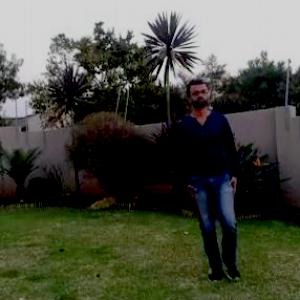follow: (174, 72, 249, 290)
